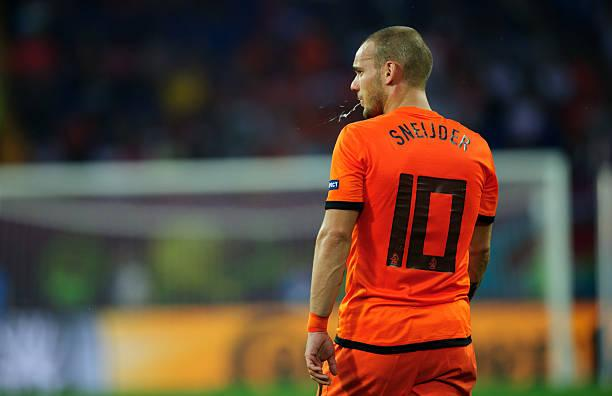Spitting: (340, 21, 467, 122)
